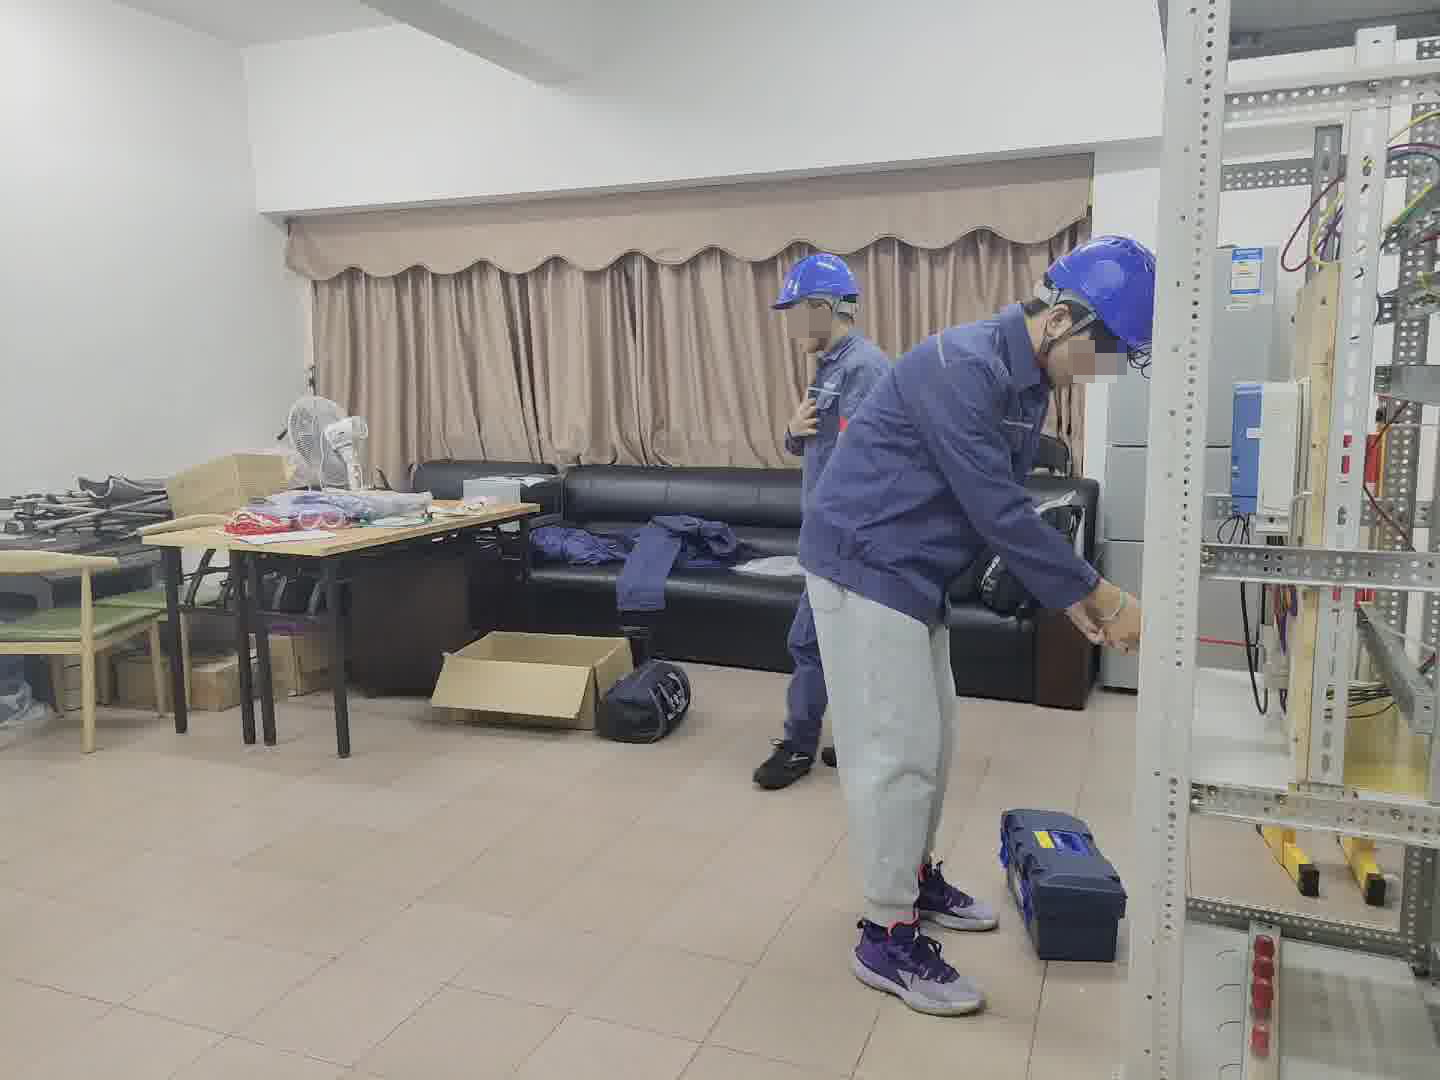downcloth: (798, 563, 958, 928)
downsuit: (783, 578, 862, 757)
halt: (1039, 232, 1159, 385), (771, 250, 866, 353)
hand: (1068, 580, 1147, 653), (787, 387, 822, 437)
inear: (1034, 293, 1098, 353), (804, 297, 842, 330)
person: (803, 237, 1157, 1013), (752, 245, 903, 778)
upsuit: (791, 300, 1090, 593), (795, 348, 898, 570)
